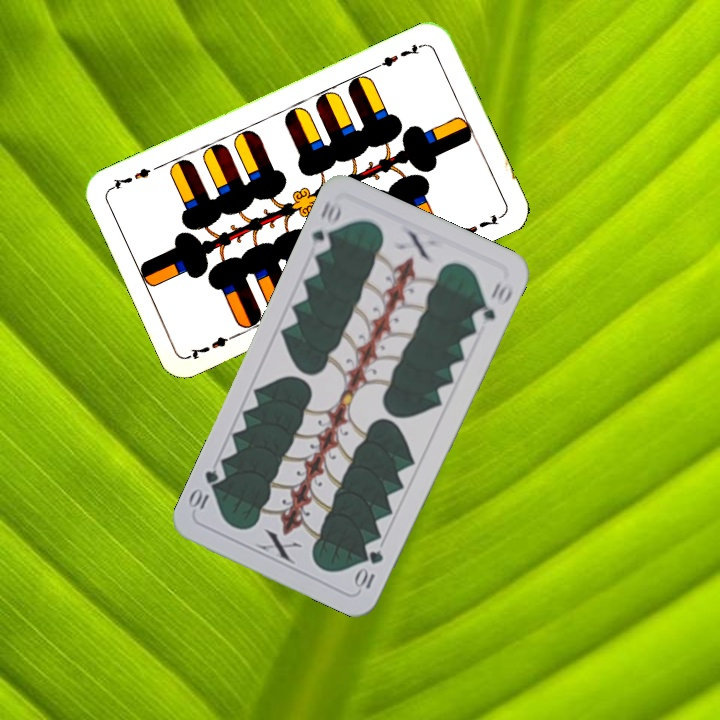E7: (185, 330, 241, 362), (371, 40, 427, 71)
G10: (306, 197, 344, 256), (351, 545, 386, 593)
